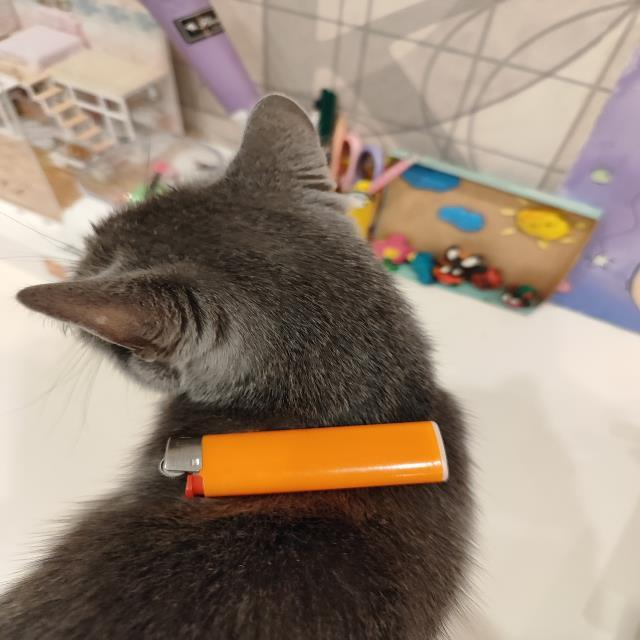lighter: (160, 421, 448, 498)
